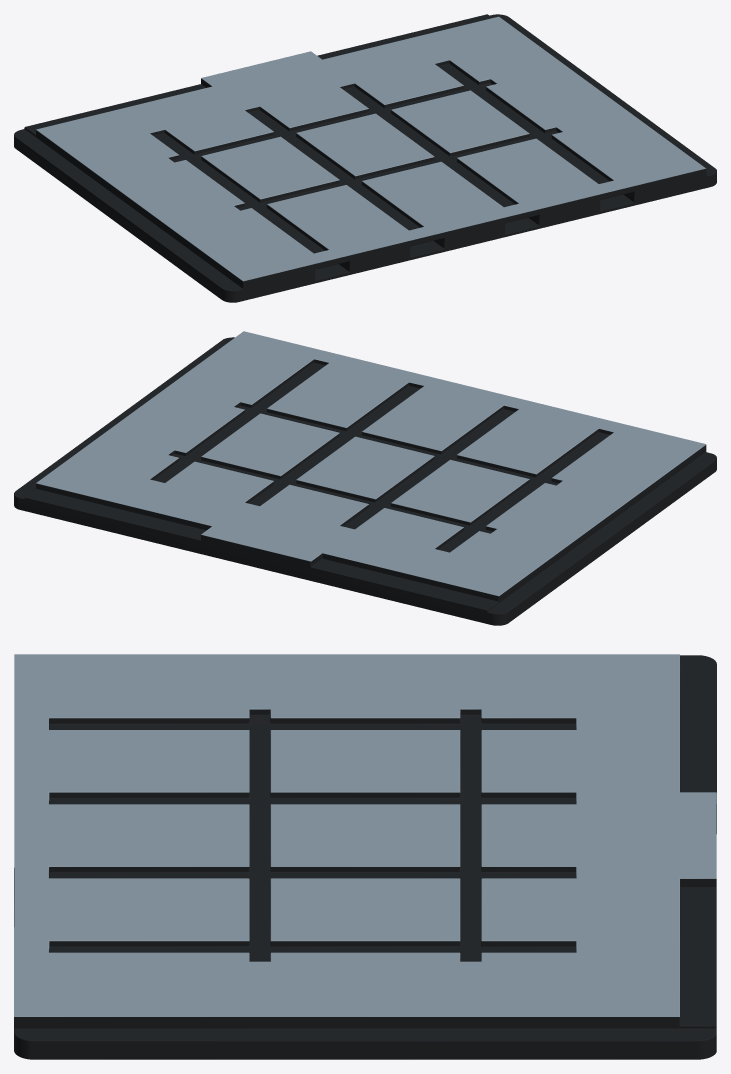
File: plate-02-data-in.glb
3 renders of one model, top to bottom at view 1: azimuth 30°, elevation 25°; view 2: azimuth 150°, elevation 25°; view 3: azimuth 270°, elevation 25°, orthographic. The views are drawn at different scales.
Visible parts, largest first — view 1: Plate_02_Data_In; view 2: Plate_02_Data_In; view 3: Plate_02_Data_In.
Boxes of the visible parts, <box> form: Plate_02_Data_In: <box>14,14,716,302</box>; Plate_02_Data_In: <box>14,331,716,625</box>; Plate_02_Data_In: <box>14,654,716,1059</box>.
Bounding box in the file's own units: 0.26 × 0.01 × 0.2.
